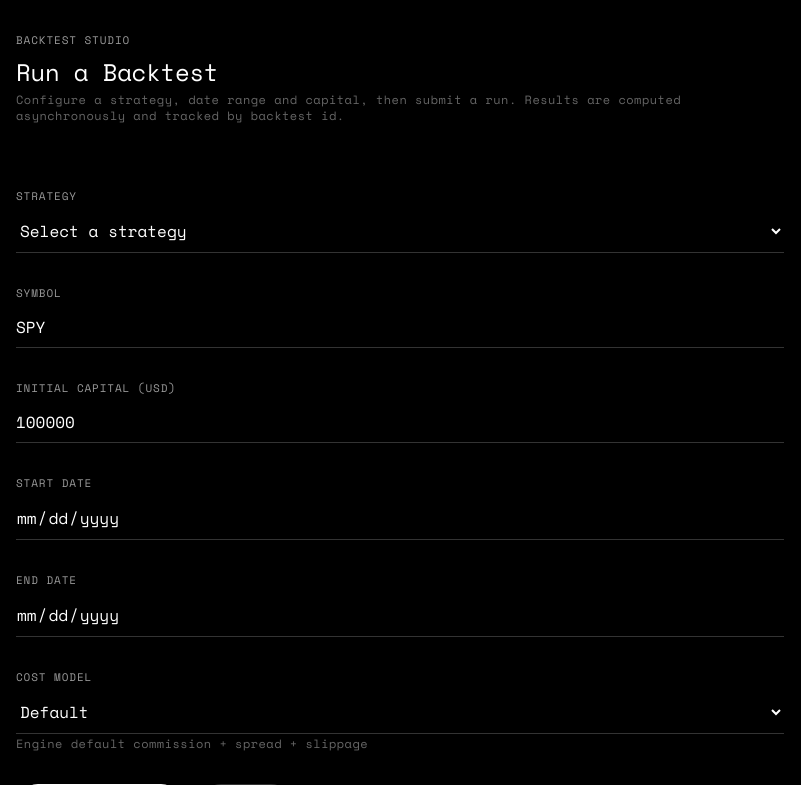
Test: BacktestPage › shows inline validation errors and does not submit when invalid
Note: Clear the default symbol + capital so validation trips on every field.
Clear the field with test id "backtest-symbol-input" at (400, 328), box [16,307,784,348]
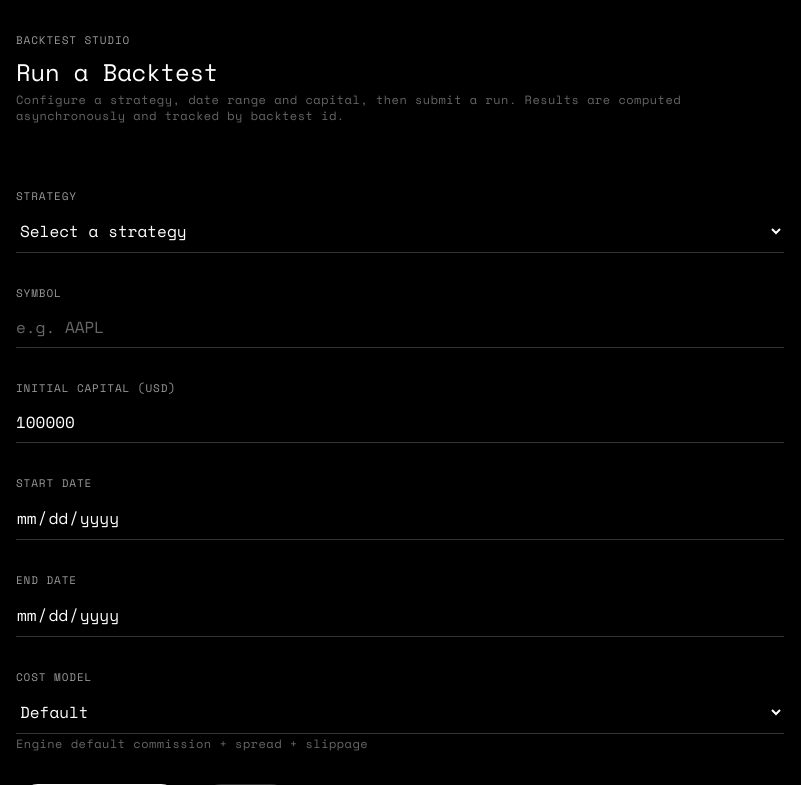
Clear the number field with test id "backtest-capital-input" at (400, 422), box [16,402,784,443]
(page scrolled)
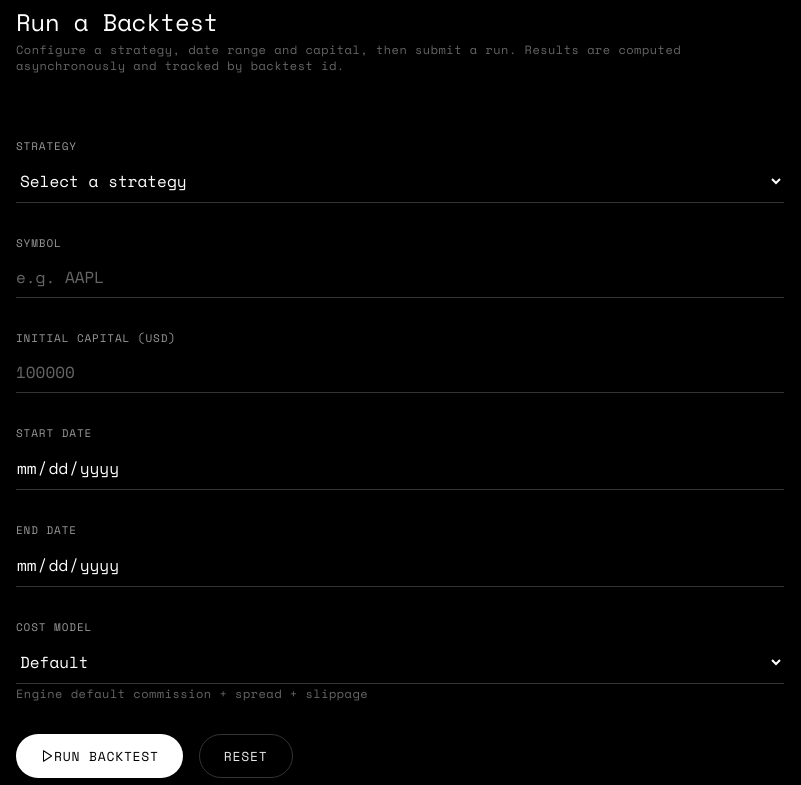
Click the button with test id "backtest-submit" at (99, 756), box [16,734,183,778]
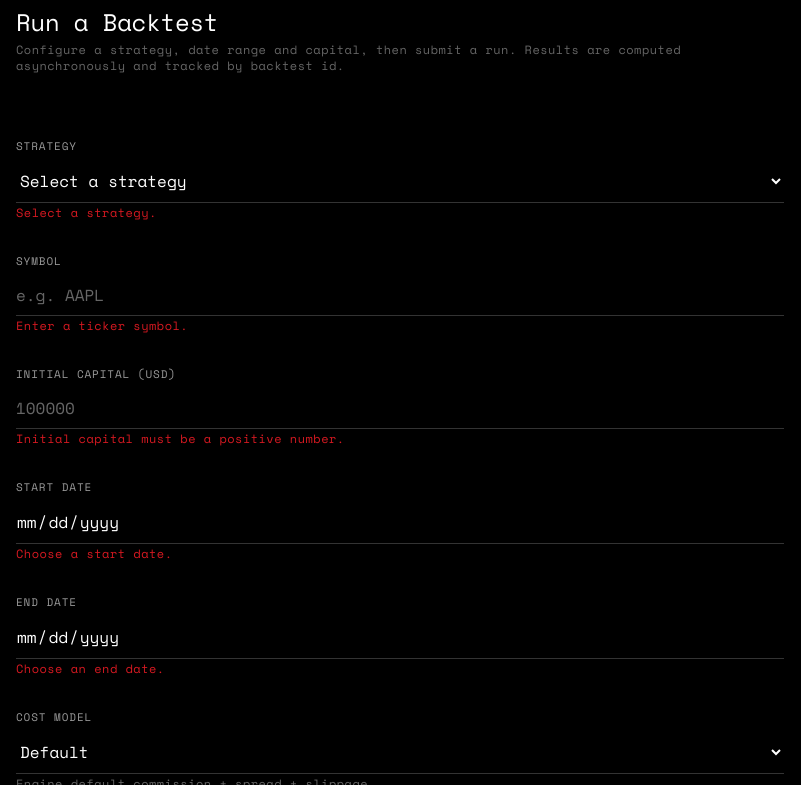
Expected: the message "Select a strategy." is shown, [16,204,157,221]
Expected: the message "Enter a ticker symbol." is shown, [16,317,188,334]
Expected: the message "Choose a start date." is shown, [16,545,172,562]
